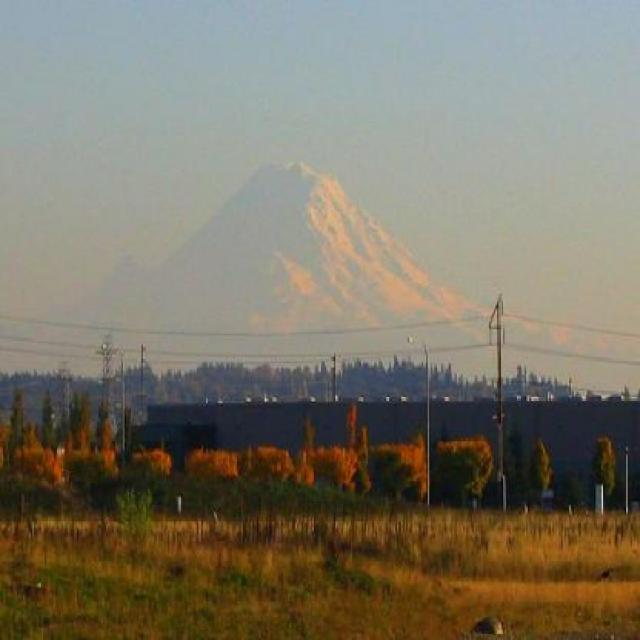pole: (488, 274, 526, 508), (417, 352, 437, 523), (114, 356, 134, 456)
